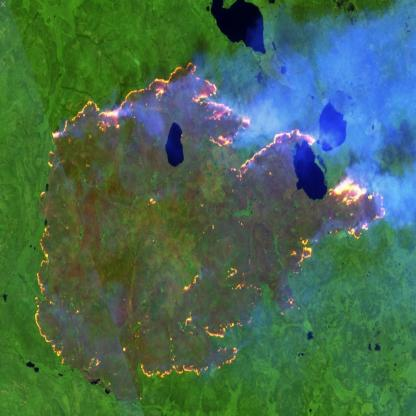fire: (22, 47, 390, 401)
